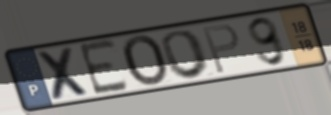9: (246, 15, 289, 69)
E: (75, 36, 132, 99)
O: (119, 34, 172, 89), (159, 28, 213, 81)
P: (200, 21, 242, 76)
X: (34, 45, 96, 103)
